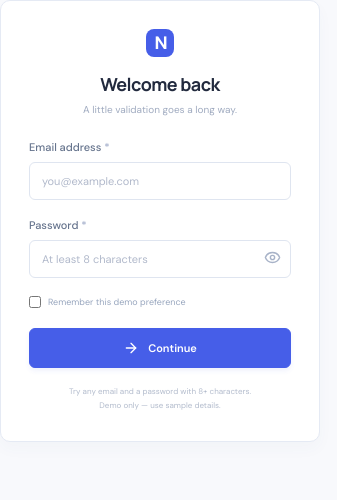
Test: LoginForm › clears field feedback when the user edits it
The image size is (337, 500).
Step 1. Click the button "Continue" → [160, 348], box 29,328 -> 291,368
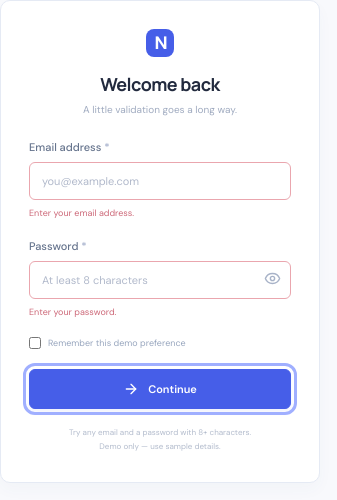
Step 2. Type "a" into the field labelled "Email address *" → [160, 181], box 29,162 -> 291,200
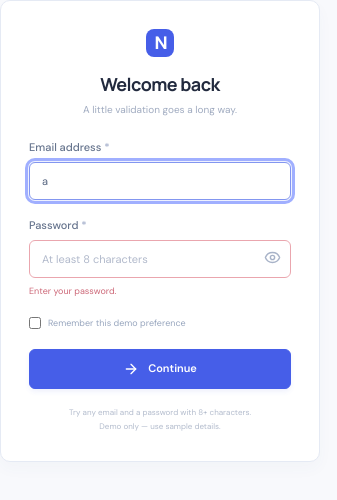
expect the text "Enter your password." is shown: met, box 29,285 -> 116,297
expect the text "Enter your email address." is gone: met
